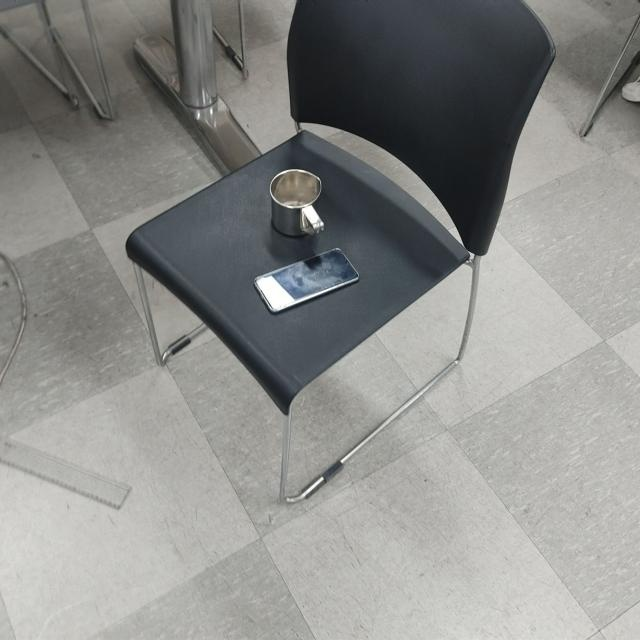cup: (269, 166, 327, 238)
phone: (253, 245, 360, 320)
